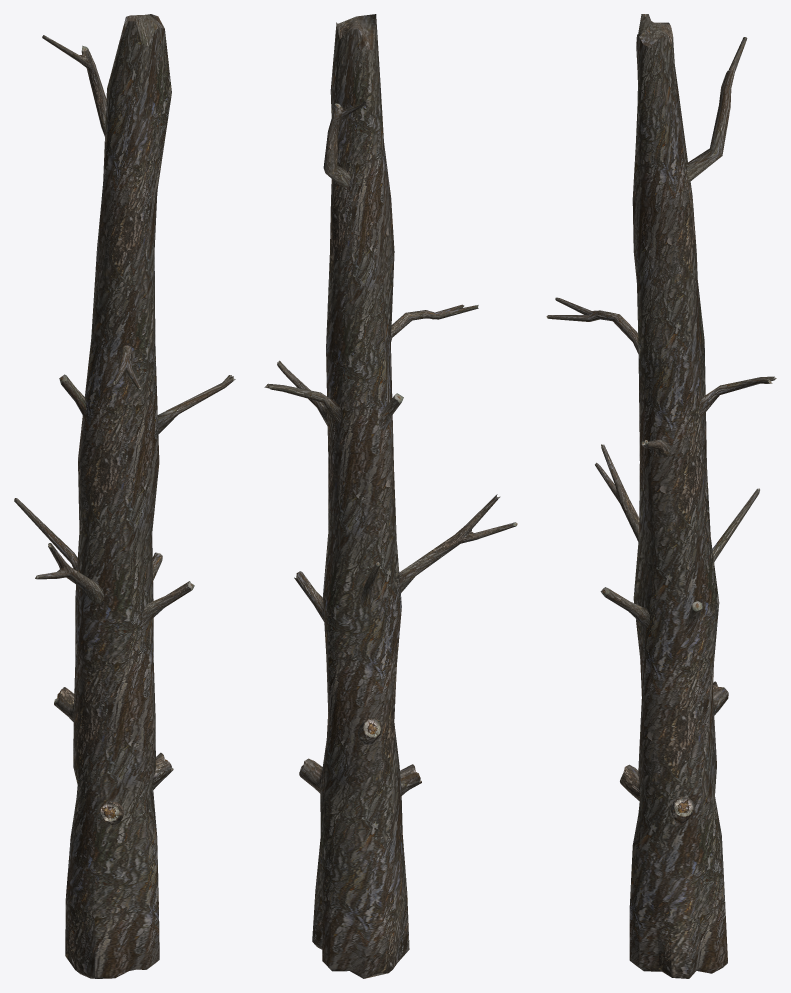
The model's file is Tree_ElephantEar_trunk1.fbx.
3 views of the same model, side by side, from view 1: azimuth 30°, elevation 25°; view 2: azimuth 150°, elevation 25°; view 3: azimuth 270°, elevation 25° (orthographic). The views are drawn at different scales.
Parts seen in each view (by area): view 1: ElephantEar_trunk1; view 2: ElephantEar_trunk1; view 3: ElephantEar_trunk1.
Boxes of the visible parts, x1=… form: ElephantEar_trunk1: x1=14, y1=14, x2=235, y2=978; ElephantEar_trunk1: x1=264, y1=14, x2=517, y2=978; ElephantEar_trunk1: x1=546, y1=14, x2=776, y2=978.
Size of the model in its own units: 4.93 by 20.26 by 4.41.
